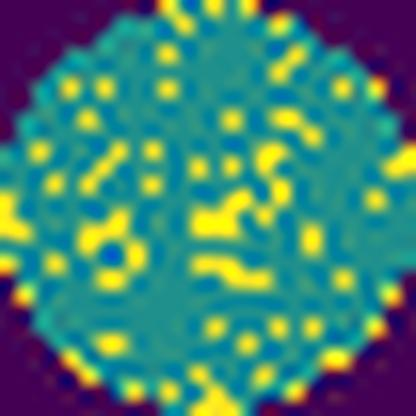Center: (174, 138, 296, 293)
